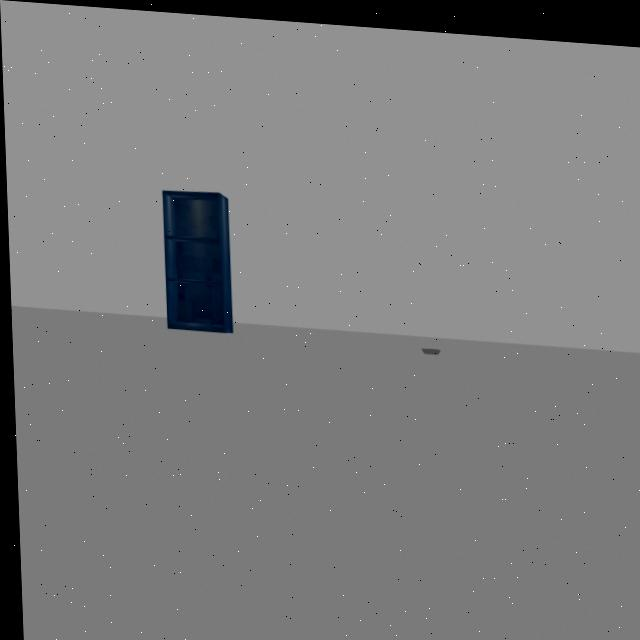bowl: (415, 329, 443, 355)
shelf: (147, 166, 239, 341)
